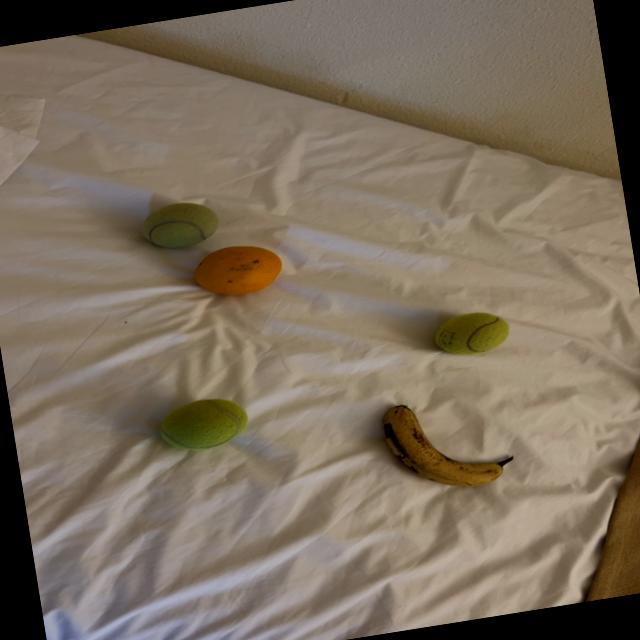bananas: (384, 405, 512, 486)
orange: (195, 246, 281, 294)
